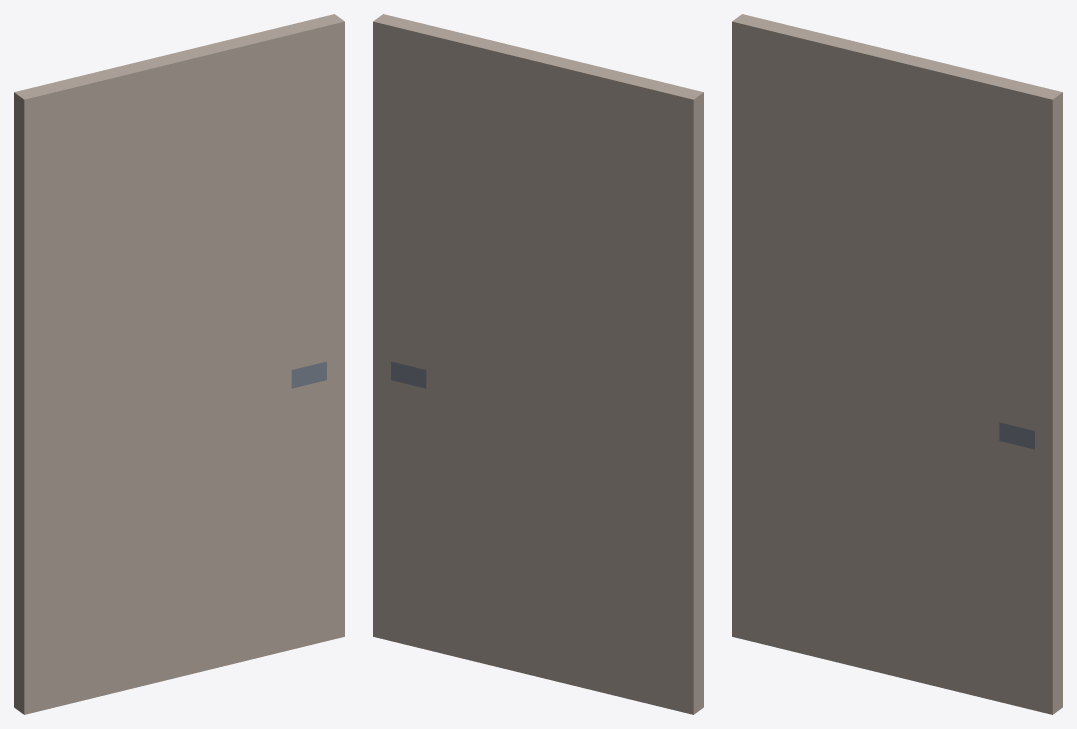
Rendered from stall-door.obj.
3 renders of one model, left to right at view 1: azimuth 30°, elevation 25°; view 2: azimuth 150°, elevation 25°; view 3: azimuth 330°, elevation 25°, orthographic.
Bounding box in the file's own units: 1.8 × 3.3 × 0.1.
Materials: 1 (1 with a texture image).
